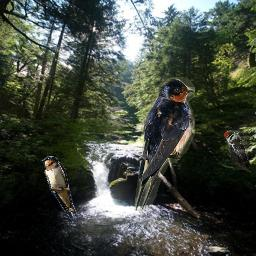Swallow: (132, 77, 195, 211), (40, 156, 78, 220)
Woodpecker: (223, 130, 249, 170)
